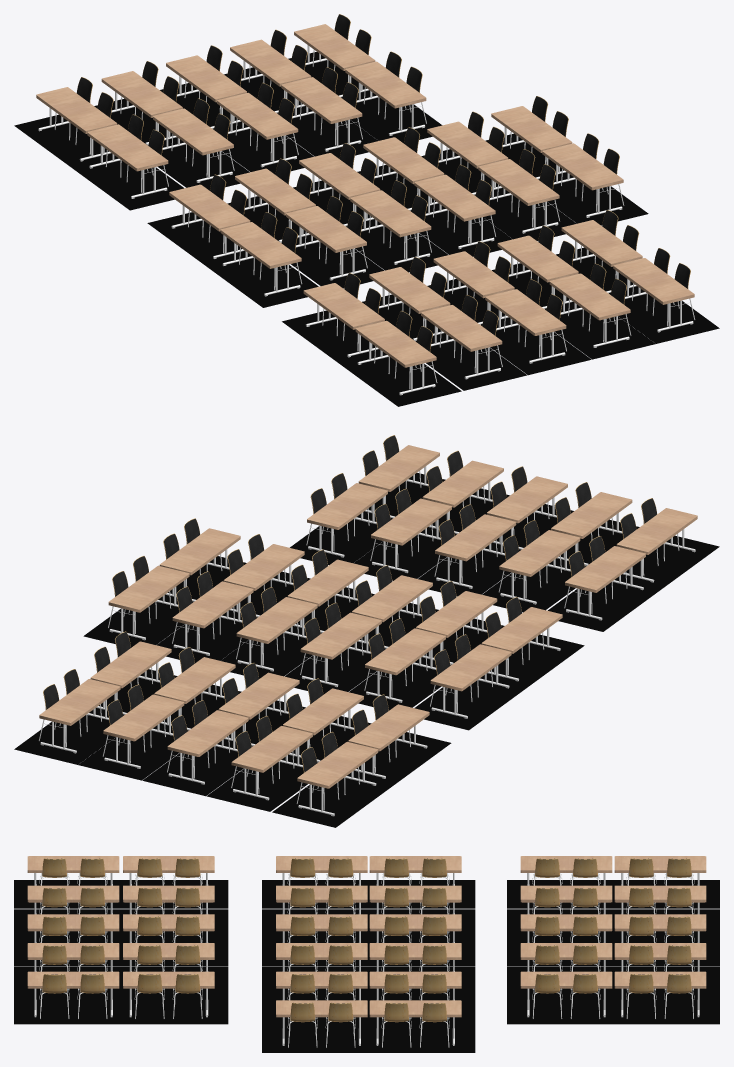
File: Matterhorn-2 alt.fbx
3 renders of one model, top to bottom at view 1: azimuth 30°, elevation 25°; view 2: azimuth 150°, elevation 25°; view 3: azimuth 270°, elevation 25°, orthographic. The views are drawn at different scales.
Visible parts, largest first — view 1: Desk_Set_Twin.005, Desk_Set_Twin__16_.003, Desk_Set_Twin__1_.003, Desk_Set_Twin__8_.003, Desk_Set_Twin__2_.003, Desk_Set_Twin__3_.003, Desk_Set_Twin__24_.003, Desk_Set_Twin__15_.003, Desk_Set_Twin__30_.003, Desk_Set_Twin__9_.003, Desk_Set_Twin__4_.003, Desk_Set_Twin__10_.003 (+20 smaller); view 2: Desk_Set_Twin__4_.003, Desk_Set_Twin__20_.003, Desk_Set_Twin__21_.003, Desk_Set_Twin__23_.003, Desk_Set_Twin__15_.003, Desk_Set_Twin__22_.003, Desk_Set_Twin__29_.003, Desk_Set_Twin.005, Desk_Set_Twin__8_.003, Desk_Set_Twin__16_.003, Desk_Set_Twin__31_.003, Desk_Set_Twin__5_.003 (+20 smaller); view 3: Desk_Set_Twin__25_.003, Desk_Set_Twin__31_.003, Desk_Set_Twin__28_.003, Desk_Set_Twin__30_.003, Desk_Set_Twin__24_.003, Desk_Set_Twin__29_.003, Desk_Set_Twin__1_.003, Desk_Set_Twin__26_.003, Desk_Set_Twin__9_.003, Desk_Set_Twin.005, Desk_Set_Twin__23_.003, Desk_Set_Twin__2_.003 (+20 smaller).
Boxes of the visible parts, box(x1,y1,x2,y2) form: Desk_Set_Twin.005: box(333, 310, 461, 406); Desk_Set_Twin__16_.003: box(65, 114, 183, 210); Desk_Set_Twin__1_.003: box(416, 295, 527, 390); Desk_Set_Twin__8_.003: box(212, 212, 318, 307); Desk_Set_Twin__2_.003: box(481, 279, 591, 375); Desk_Set_Twin__3_.003: box(545, 263, 655, 359); Desk_Set_Twin__24_.003: box(609, 248, 719, 343); Desk_Set_Twin__15_.003: box(147, 174, 252, 270); Desk_Set_Twin__30_.003: box(542, 133, 648, 225); Desk_Set_Twin__9_.003: box(286, 196, 383, 288); Desk_Set_Twin__4_.003: box(282, 273, 390, 368); Desk_Set_Twin__10_.003: box(346, 180, 448, 272); Desk_Set_Twin__4_.003: box(548, 536, 666, 631); Desk_Set_Twin__20_.003: box(272, 731, 392, 827); Desk_Set_Twin__21_.003: box(206, 716, 317, 811); Desk_Set_Twin__23_.003: box(78, 684, 188, 780); Desk_Set_Twin__15_.003: box(414, 634, 519, 730); Desk_Set_Twin__22_.003: box(142, 700, 248, 796); Desk_Set_Twin__29_.003: box(14, 669, 120, 764); Desk_Set_Twin.005: box(610, 498, 719, 593); Desk_Set_Twin__8_.003: box(475, 597, 584, 692); Desk_Set_Twin__16_.003: box(342, 694, 451, 790); Desk_Set_Twin__31_.003: box(83, 556, 189, 647); Desk_Set_Twin__5_.003: box(482, 520, 580, 612); Desk_Set_Twin__25_.003: box(109, 971, 228, 1024); Desk_Set_Twin__31_.003: box(356, 1000, 475, 1052); Desk_Set_Twin__28_.003: box(507, 971, 625, 1024); Desk_Set_Twin__30_.003: box(262, 1000, 381, 1052); Desk_Set_Twin__24_.003: box(14, 971, 133, 1024); Desk_Set_Twin__29_.003: box(600, 971, 719, 1024); Desk_Set_Twin__1_.003: box(14, 885, 133, 937); Desk_Set_Twin__26_.003: box(262, 971, 381, 1024); Desk_Set_Twin__9_.003: box(262, 885, 381, 937); Desk_Set_Twin.005: box(14, 856, 133, 908); Desk_Set_Twin__23_.003: box(600, 943, 719, 995); Desk_Set_Twin__2_.003: box(14, 914, 133, 966).
Size of the model in its own units: 8.03 by 0.9619 by 13.85.
